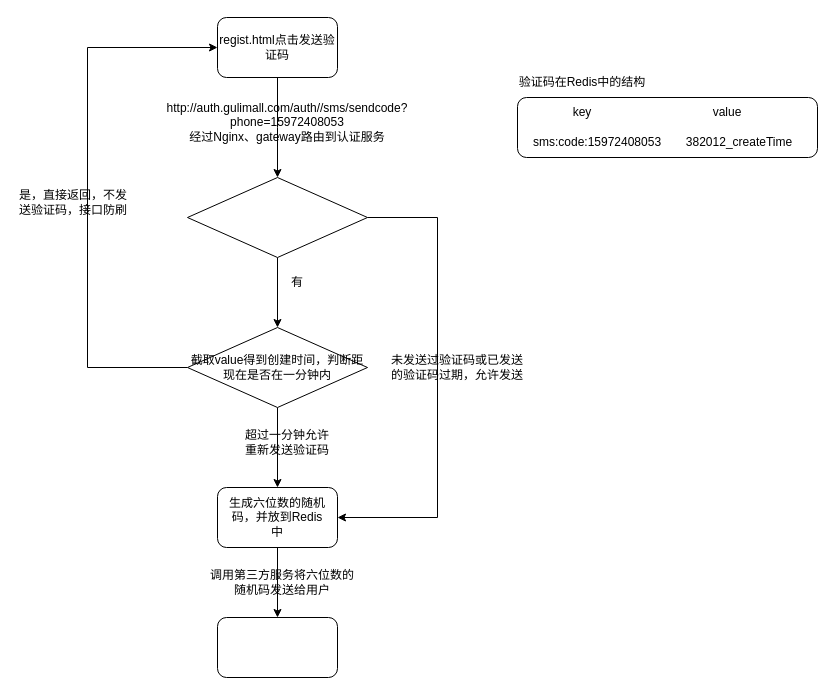
This 835x695 diagram has some shape labels left out. The box of each missing label's shape, as (x1, y1, x2, y2) in pixels:
去redis中检查有没有key为sms:code:15972408053: (186, 176, 368, 258)
发送短信: (216, 616, 338, 678)
